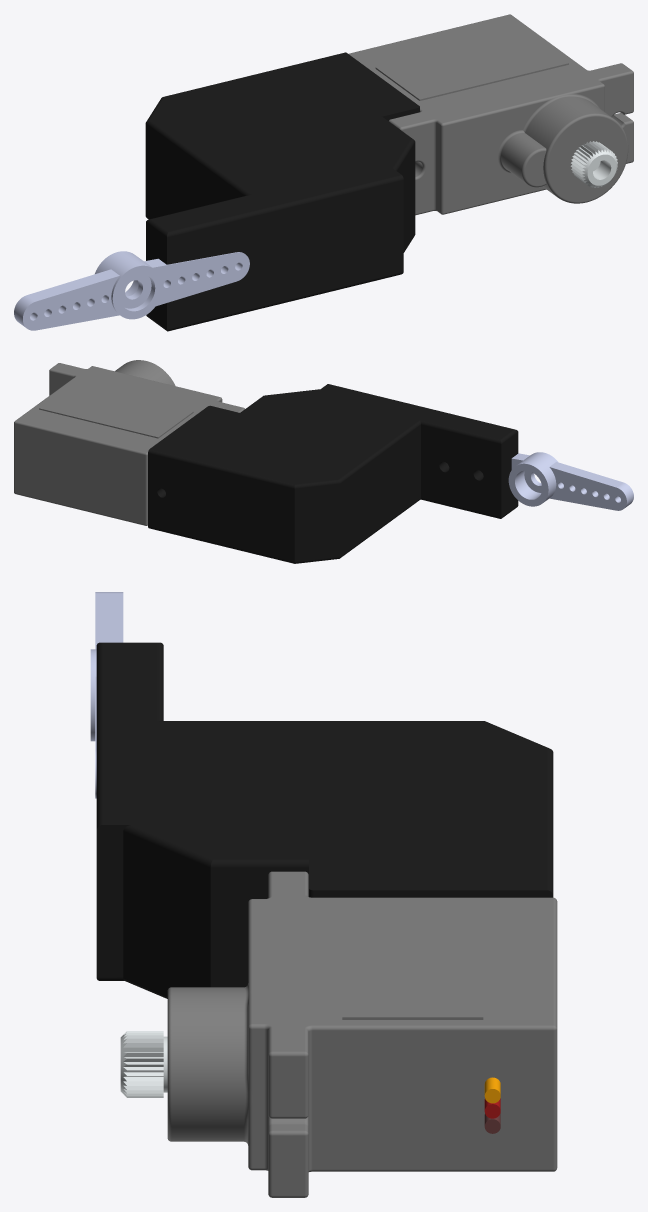
The model's file is Finger_3_1.dae.
3 views of the same model, one above another, from view 1: azimuth 30°, elevation 25°; view 2: azimuth 150°, elevation 25°; view 3: azimuth 270°, elevation 25° (orthographic). The views are drawn at different scales.
Parts seen in each view (by area): view 1: Finger_3_1; view 2: Finger_3_1; view 3: Finger_3_1.
Boxes of the visible parts, bbox=[...] form: Finger_3_1: bbox=[14, 14, 633, 331]; Finger_3_1: bbox=[14, 360, 633, 563]; Finger_3_1: bbox=[90, 592, 557, 1197].
Size of the model in its own units: 0.0914 by 0.0347 by 0.0159.
